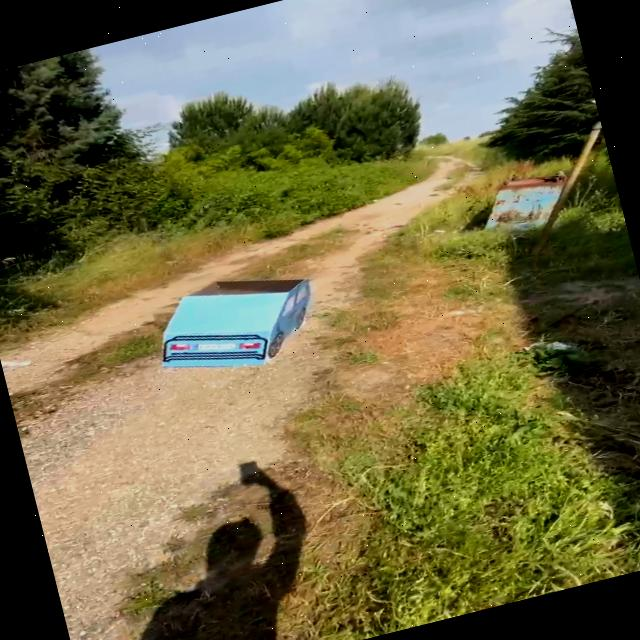blue_car: (119, 244, 357, 397)
